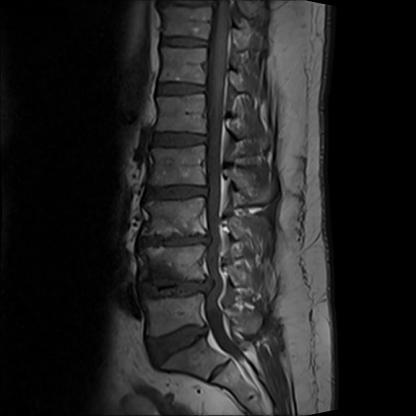Disc Bulgerotation: (142, 321, 216, 368), (131, 223, 218, 256)
